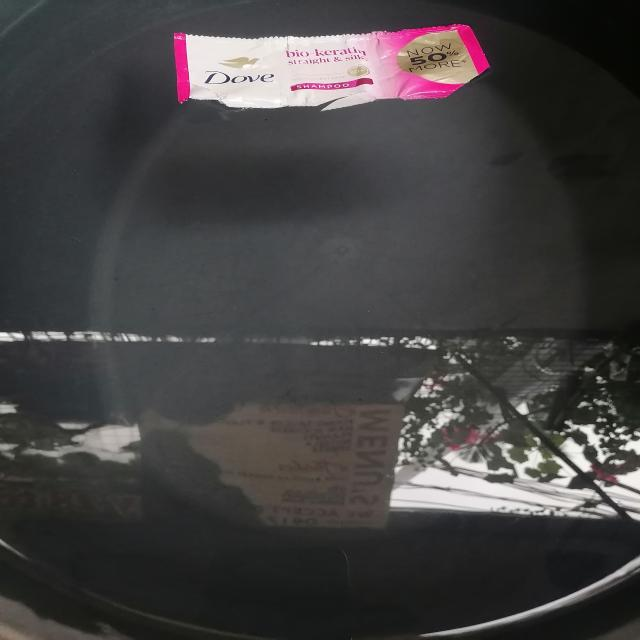Plastic Wrapper: (174, 24, 489, 109)
